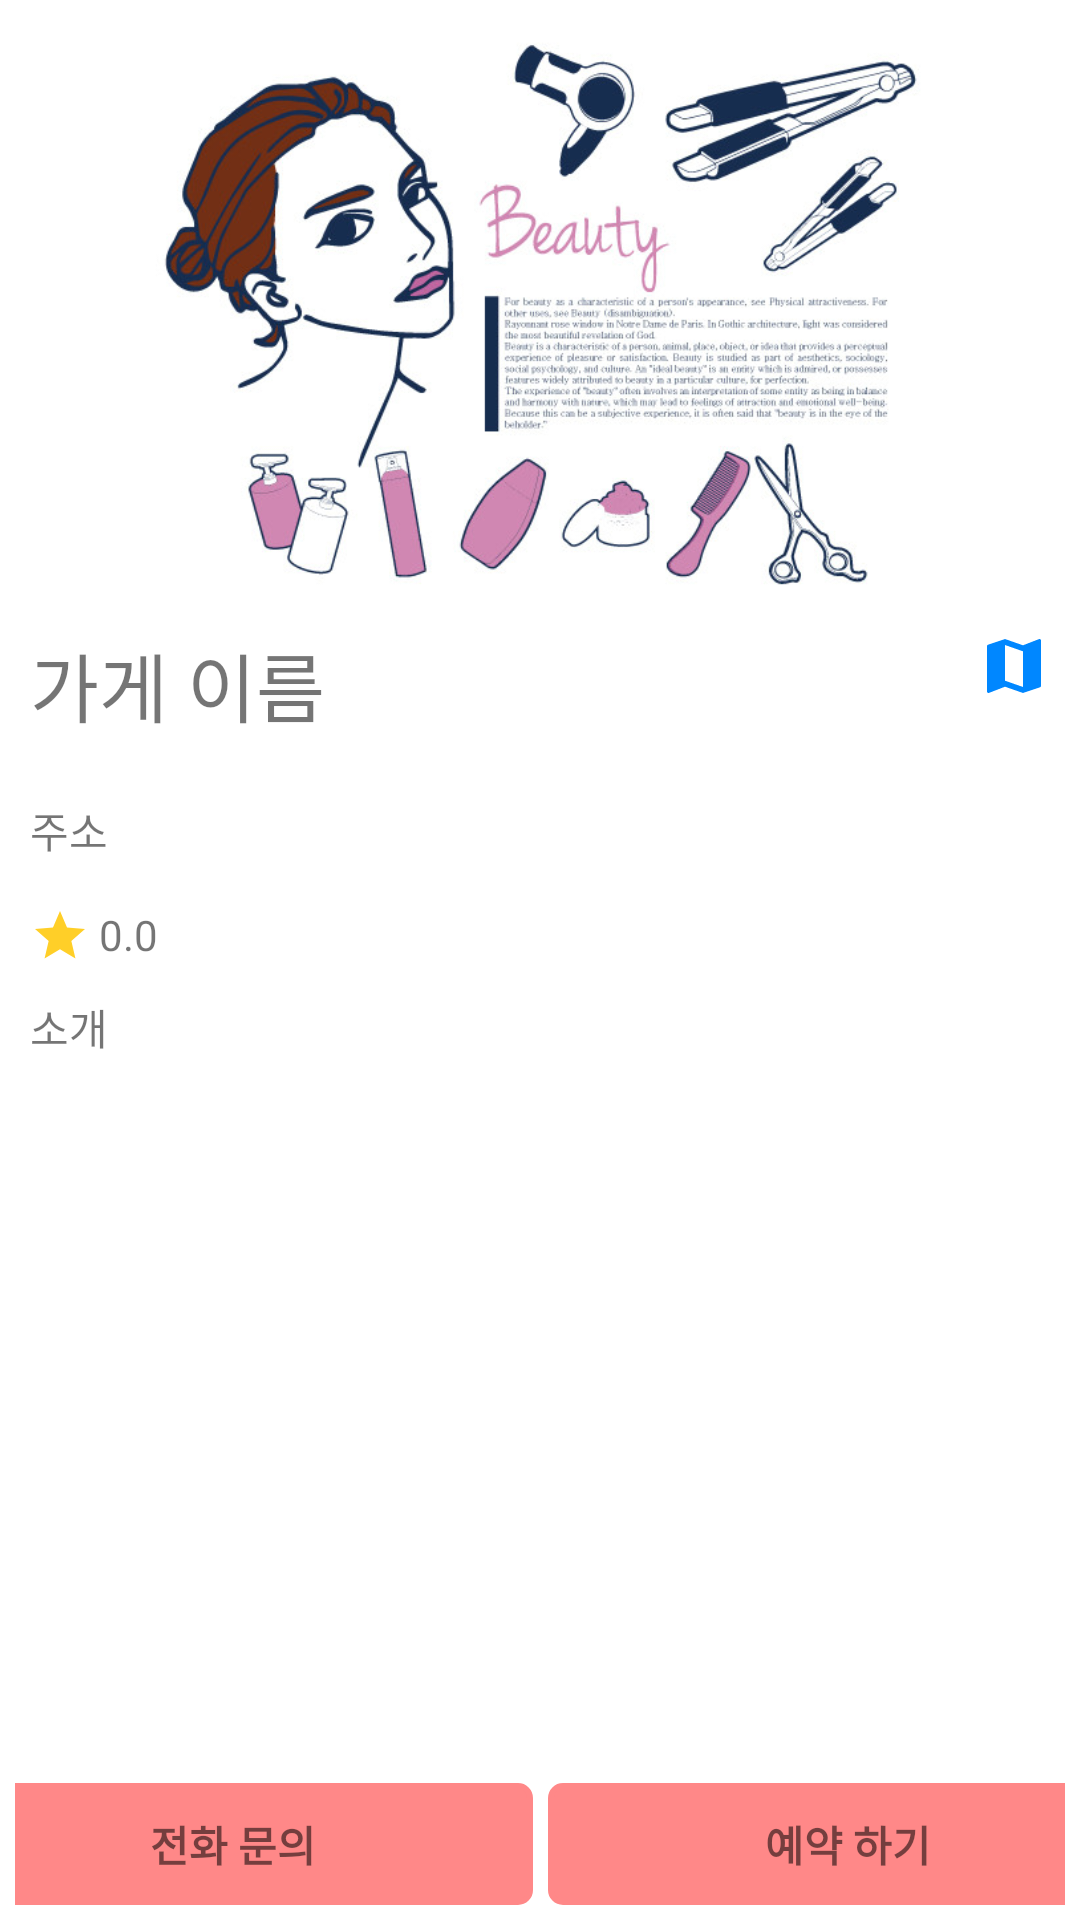

Icon bounding boxes for this 1080 x 1920 phone screenshot, format (x1, y1, x2, y2):
map: (987, 639, 1041, 693)
star: (35, 911, 85, 959)
